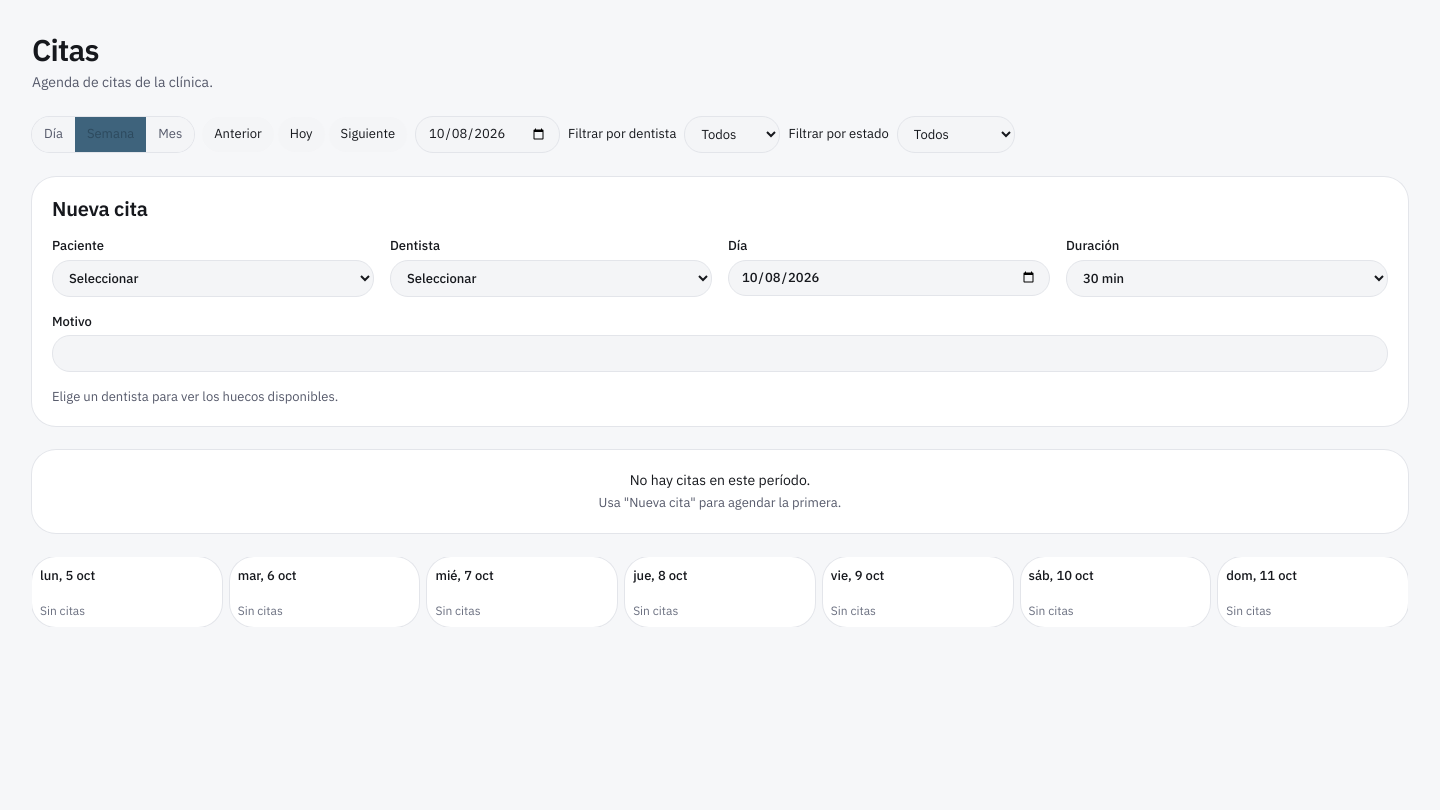
Test: Citas — navegación temporal › Día: Anterior, Siguiente y Hoy respetan los rangos y el cambio de año
Check: the text "Cargando citas…" is not shown
Click the button "Día".
click(53, 134)  # box [32, 117, 75, 152]
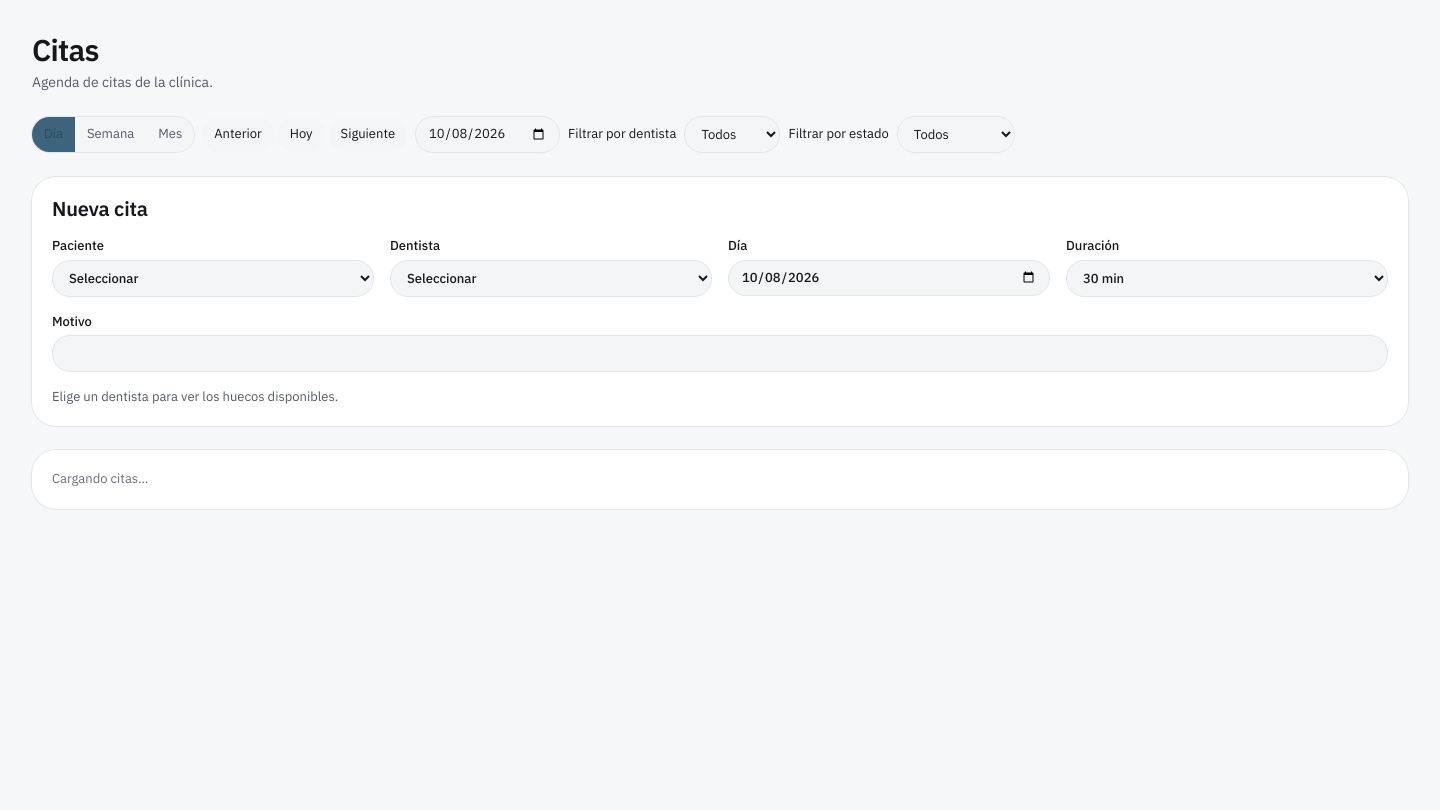
Type "2026-12-31" into the date field named "Fecha".
click(488, 134); type("2026-12-31")  # box [415, 116, 560, 153]
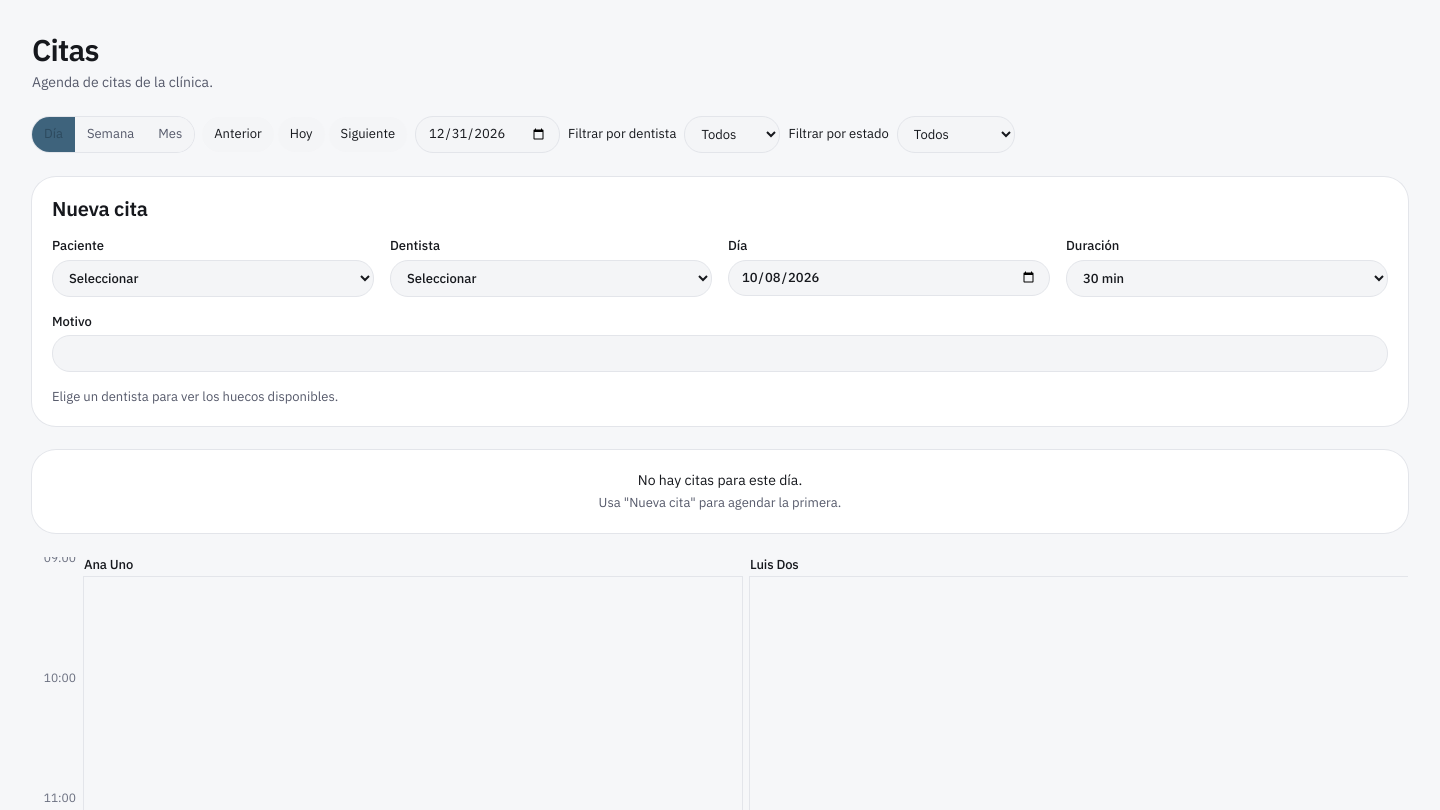
Check: the text "Cargando citas…" is gone
Click the button "Anterior".
click(238, 134)  # box [202, 117, 274, 152]
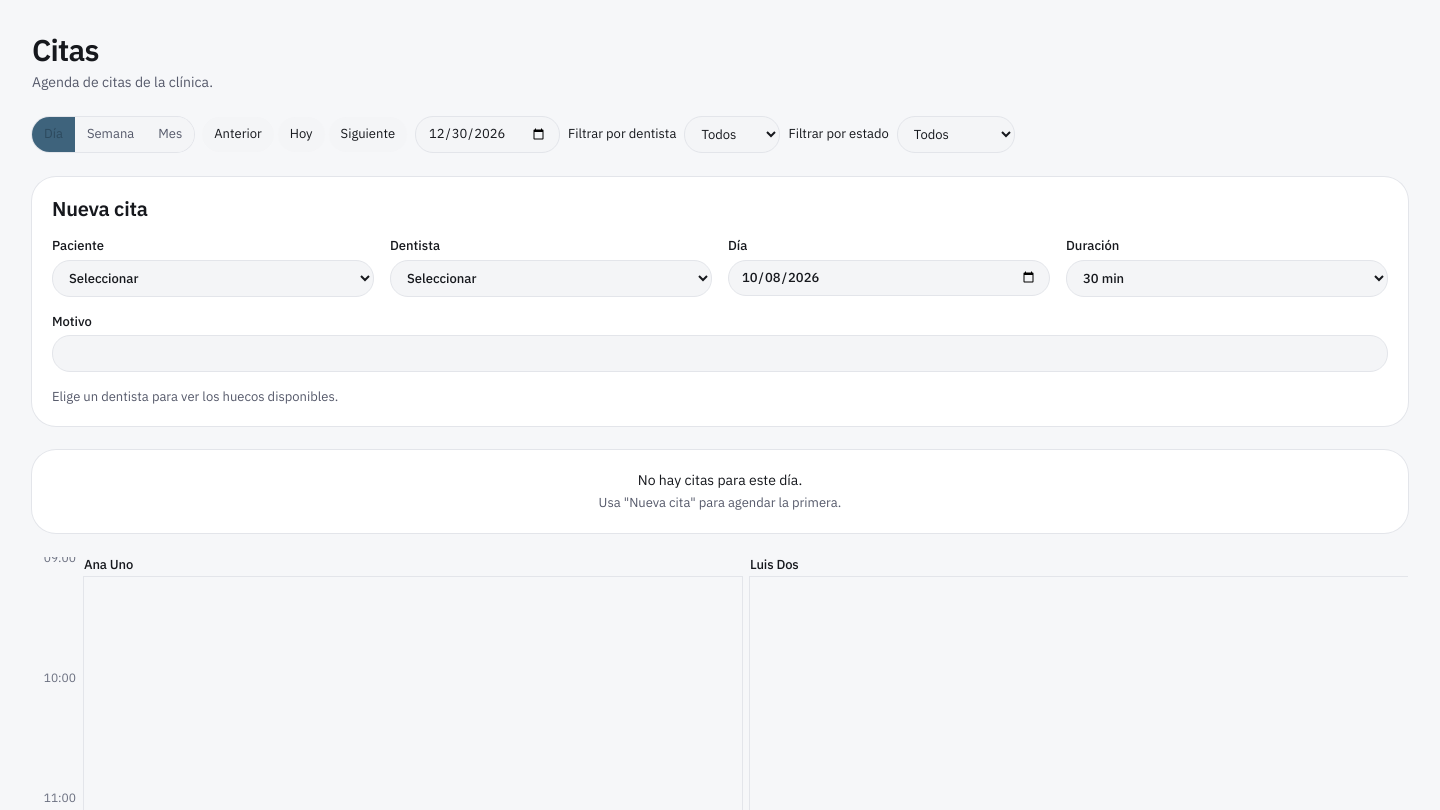
Check: the text "Cargando citas…" is not shown
Check: the date field named "Fecha" holds "2026-12-30", box [415, 116, 560, 153]
Click the button "Siguiente".
click(368, 134)  # box [329, 117, 407, 152]
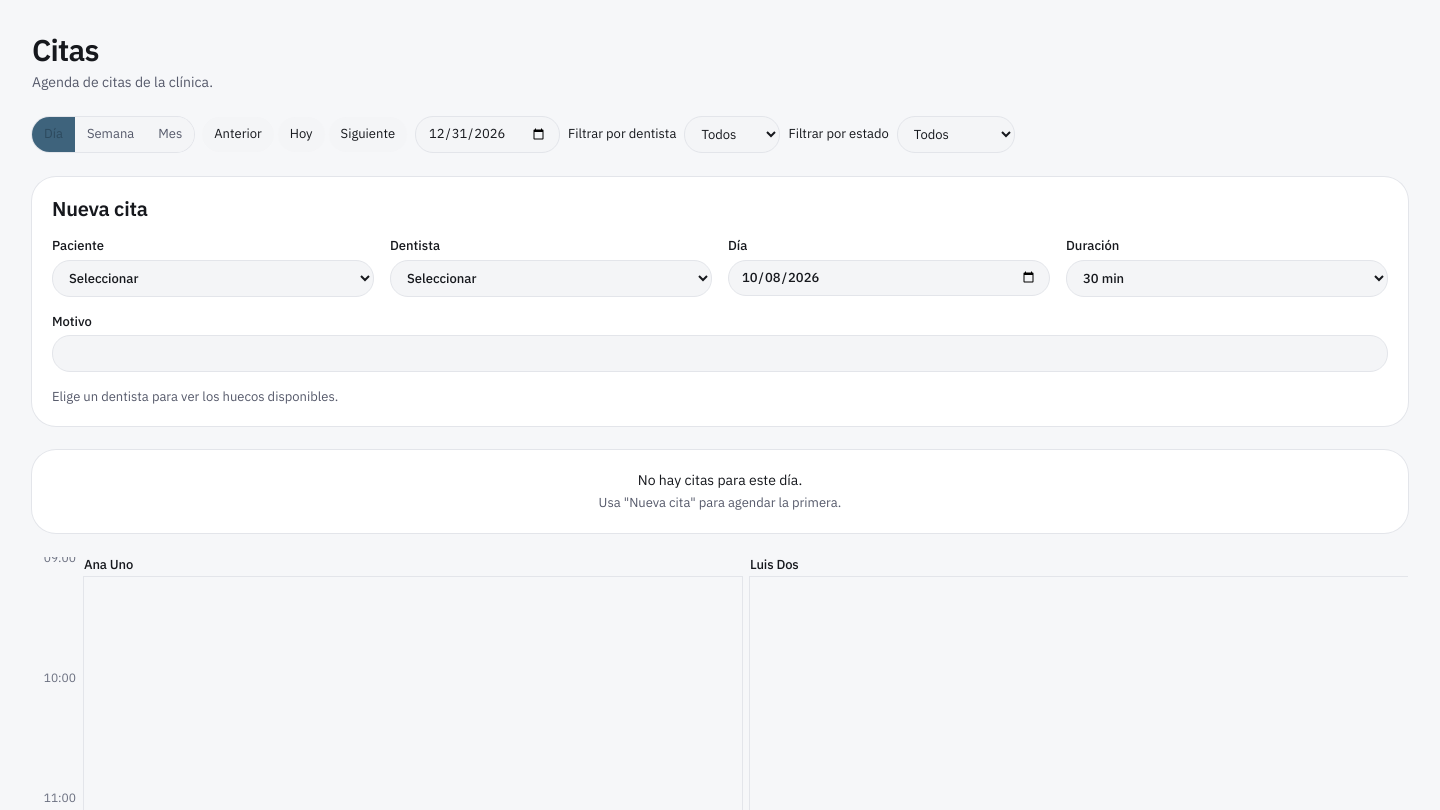
Check: the text "Cargando citas…" is not shown
Click the button "Siguiente".
click(368, 134)  # box [329, 117, 407, 152]
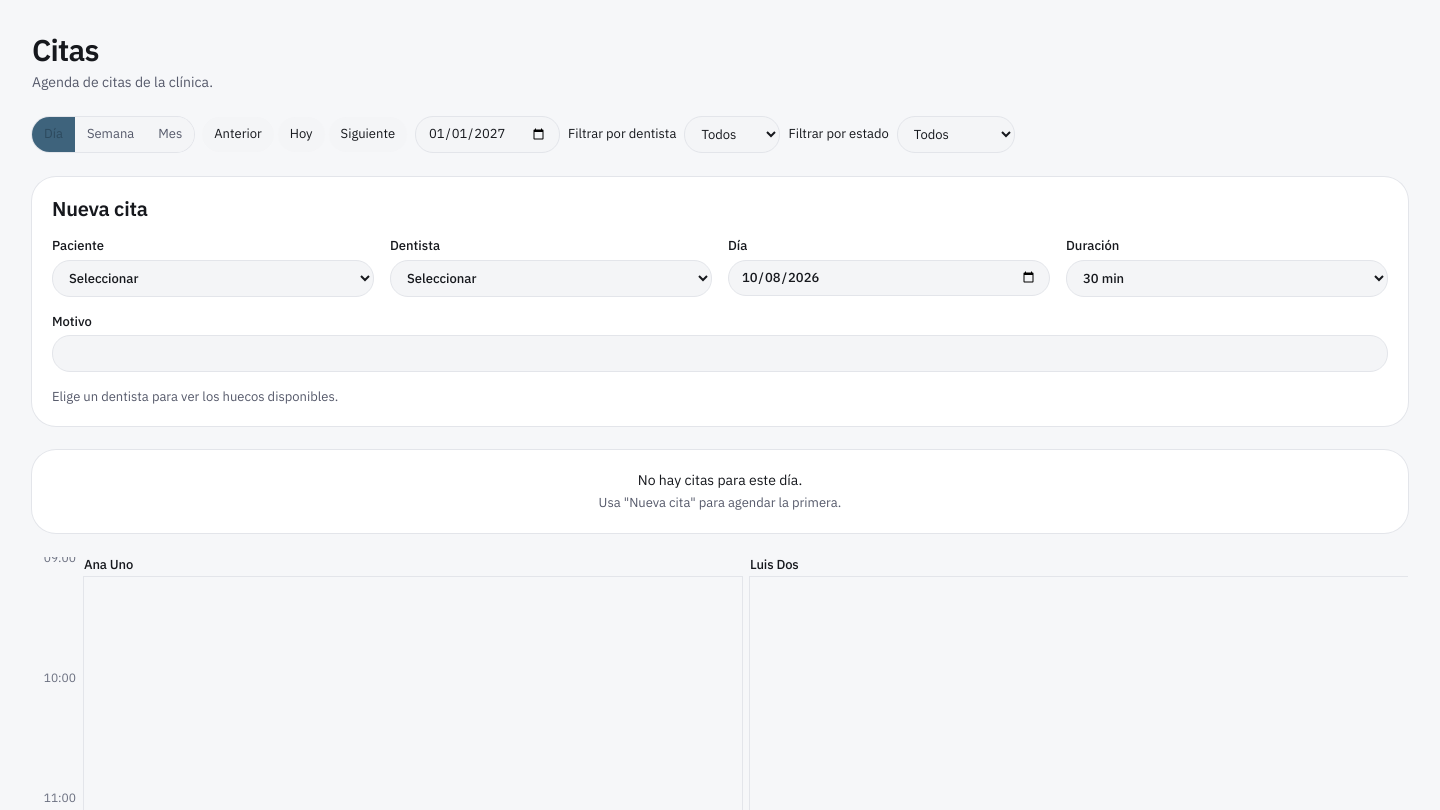
Check: the text "Cargando citas…" is not shown
Check: the date field named "Fecha" holds "2027-01-01", box [415, 116, 560, 153]
Click the button "Hoy".
click(301, 134)  # box [278, 117, 325, 152]
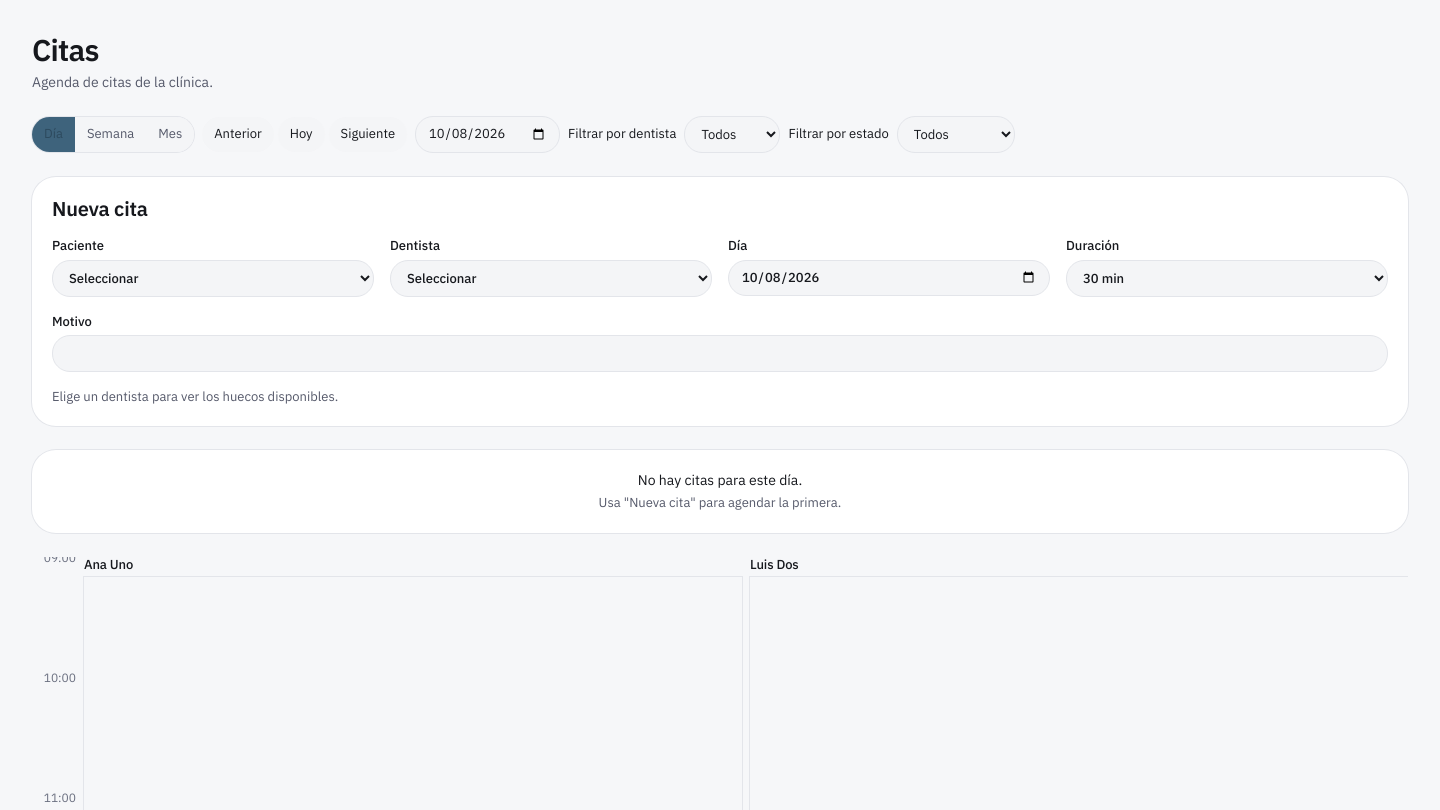
Check: the text "Cargando citas…" is not shown
Check: the date field named "Fecha" holds "2026-10-08", box [415, 116, 560, 153]
